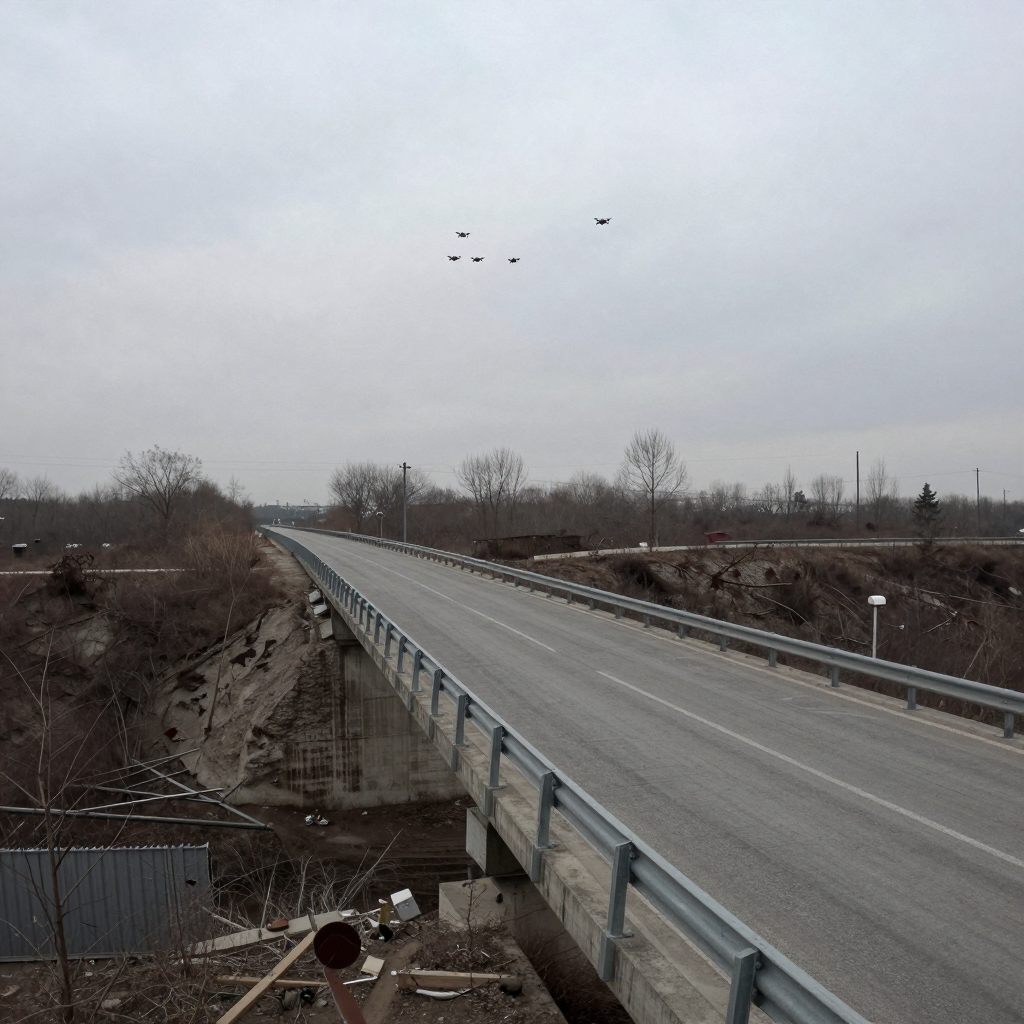drone: (594, 217, 612, 226), (470, 256, 485, 263), (455, 232, 471, 238), (447, 256, 461, 262), (508, 258, 520, 264), (508, 259, 512, 264)
